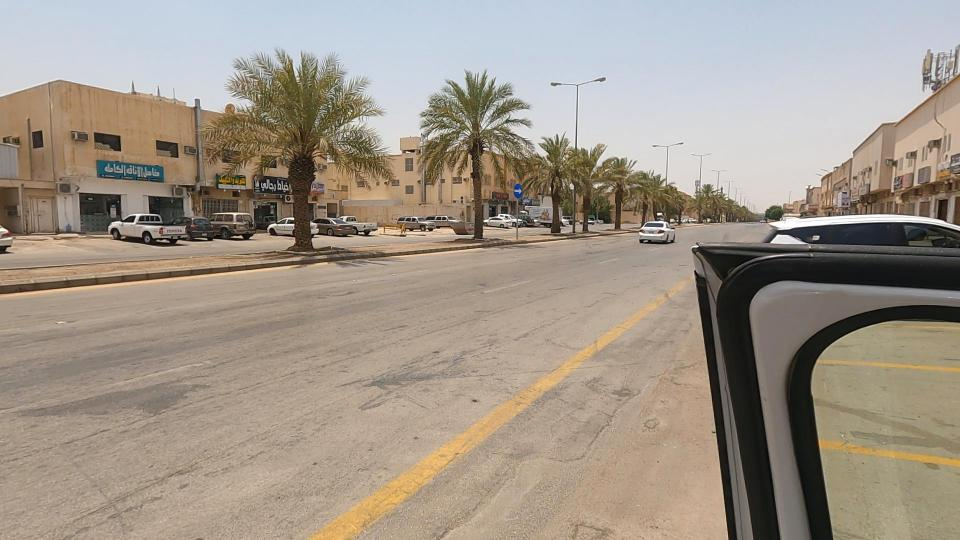BAD_BILLBOARD: (862, 159, 960, 220), (833, 162, 906, 222)
